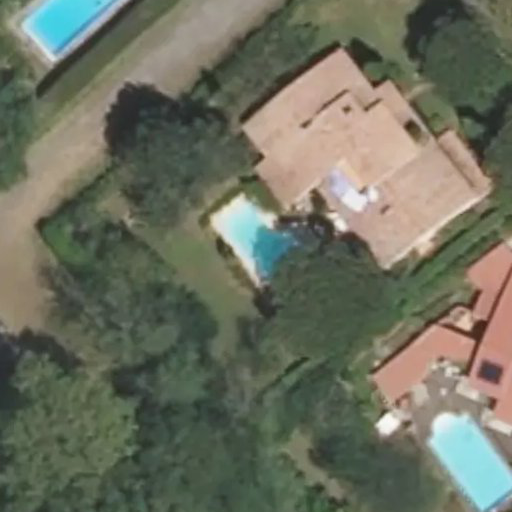pool: (220, 227, 291, 256)
